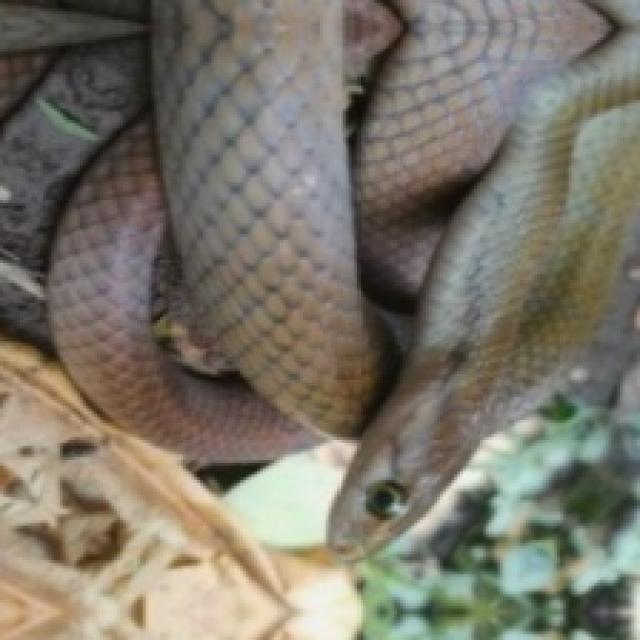reddish rat snake: (0, 0, 637, 551)
